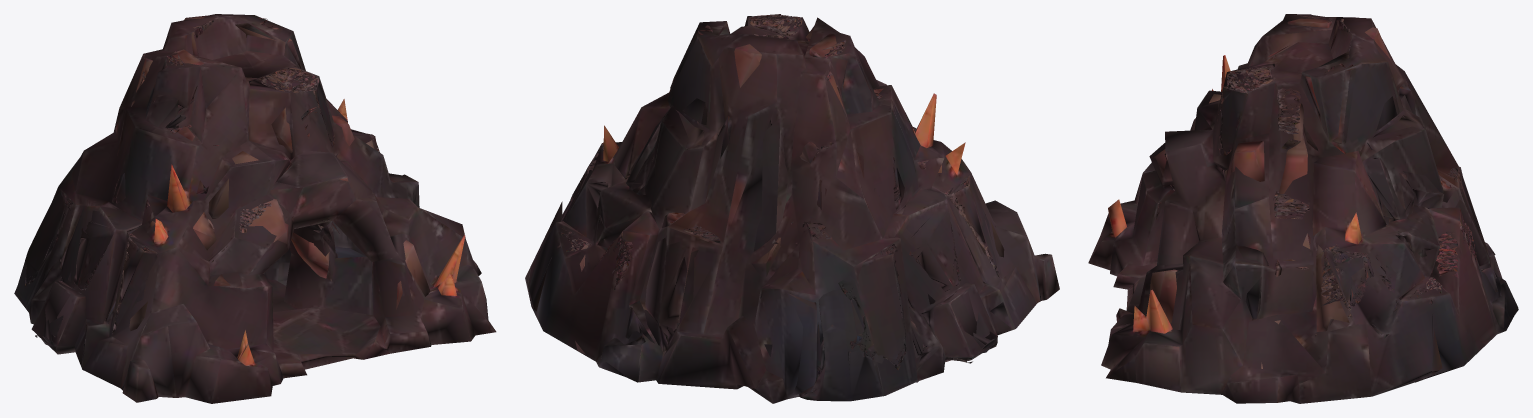
Rendered from lair_fire.glb.
3 renders of one model, left to right at view 1: azimuth 30°, elevation 25°; view 2: azimuth 150°, elevation 25°; view 3: azimuth 270°, elevation 25°, orthographic. The views are drawn at different scales.
Parts seen in each view (by area): view 1: Mesh_0; view 2: Mesh_0; view 3: Mesh_0.
Part boxes in pixels (bbox=[...]): Mesh_0: bbox=[14, 14, 496, 403]; Mesh_0: bbox=[525, 14, 1059, 403]; Mesh_0: bbox=[1088, 14, 1518, 403].
Bounding box in the file's own units: 3.08 × 1.99 × 2.81.
Materials: 1 (1 with a texture image).
